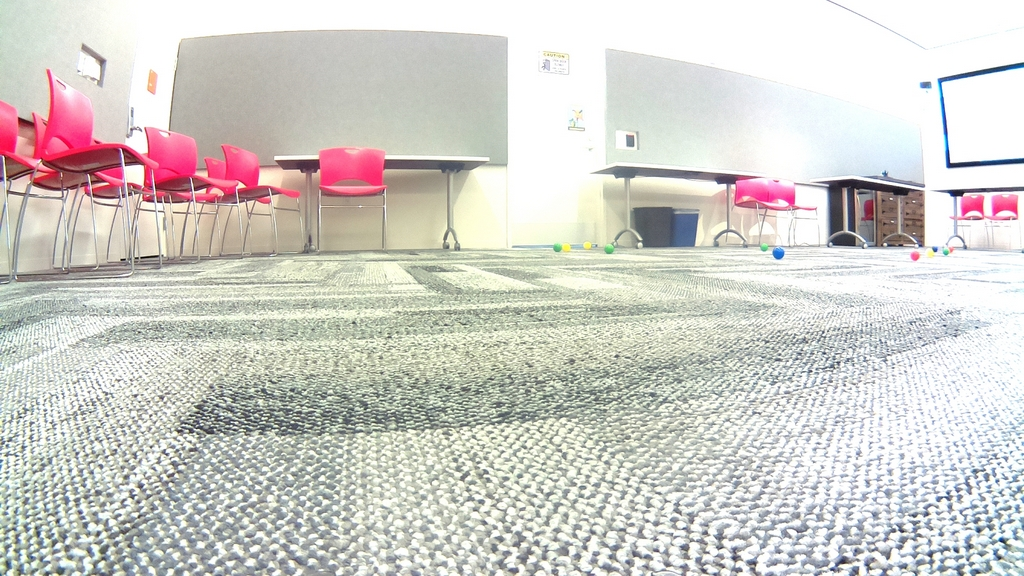ball: (758, 243, 767, 251)
